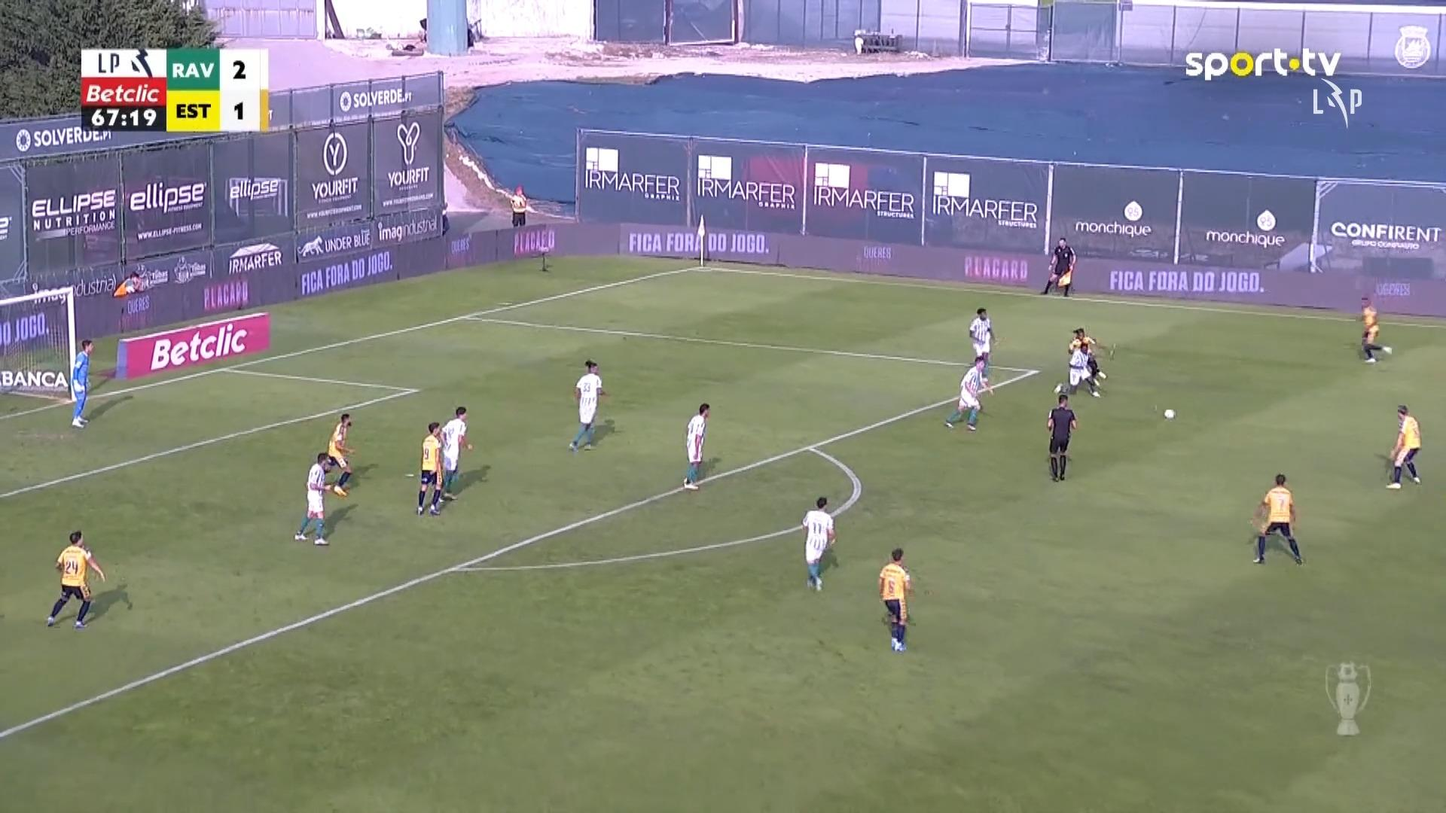ball: (1163, 408, 1174, 419)
goalkeeper: (69, 338, 93, 428)
player: (45, 529, 106, 629), (1250, 472, 1304, 565), (292, 452, 337, 545), (877, 547, 914, 652), (943, 355, 993, 431), (567, 359, 607, 451), (801, 495, 836, 592), (438, 406, 472, 500), (1386, 403, 1422, 489), (415, 421, 445, 516), (1057, 338, 1100, 397), (325, 412, 355, 496), (682, 402, 709, 489), (1068, 327, 1109, 382), (968, 306, 995, 382), (1357, 294, 1383, 363)
referee: (1045, 391, 1077, 481), (1041, 237, 1077, 295)
